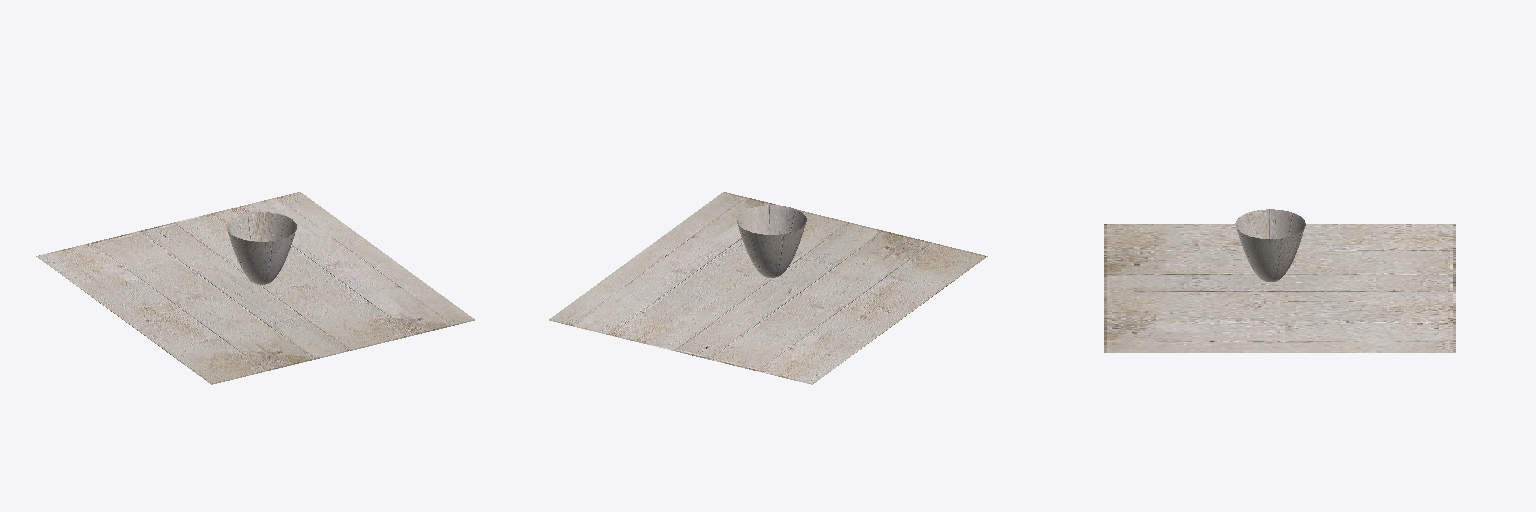
3 renders of one model, left to right at view 1: azimuth 30°, elevation 25°; view 2: azimuth 150°, elevation 25°; view 3: azimuth 270°, elevation 25°, orthographic.
Visible parts, largest first — view 1: pPlane2, pSphere1; view 2: pPlane2, pSphere1; view 3: pPlane2, pSphere1.
Part boxes in pixels (x1,y1,x2,y2): pPlane2: (36,192,474,384); pSphere1: (226,212,296,284); pPlane2: (549,192,987,384); pSphere1: (736,205,806,277); pPlane2: (1104,224,1455,352); pSphere1: (1235,209,1305,281).
Bounding box in the file's own units: 19.58 × 4.57 × 22.54.
Materials: 1 (1 with a texture image).